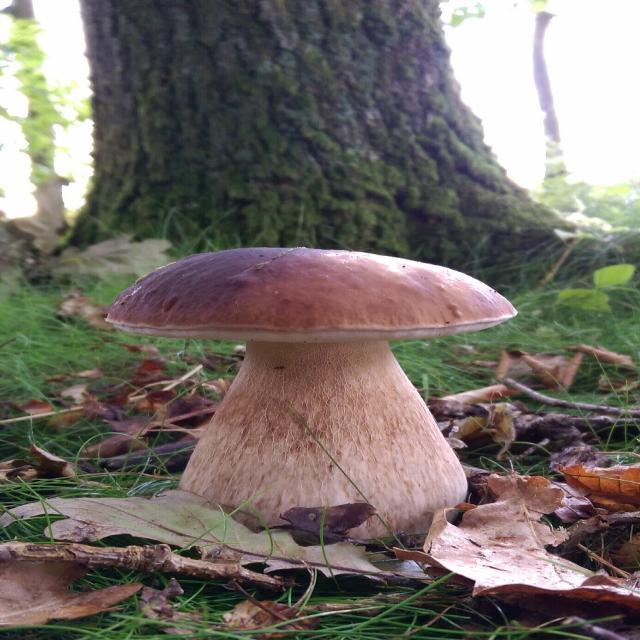Boletus: (113, 248, 516, 534)
